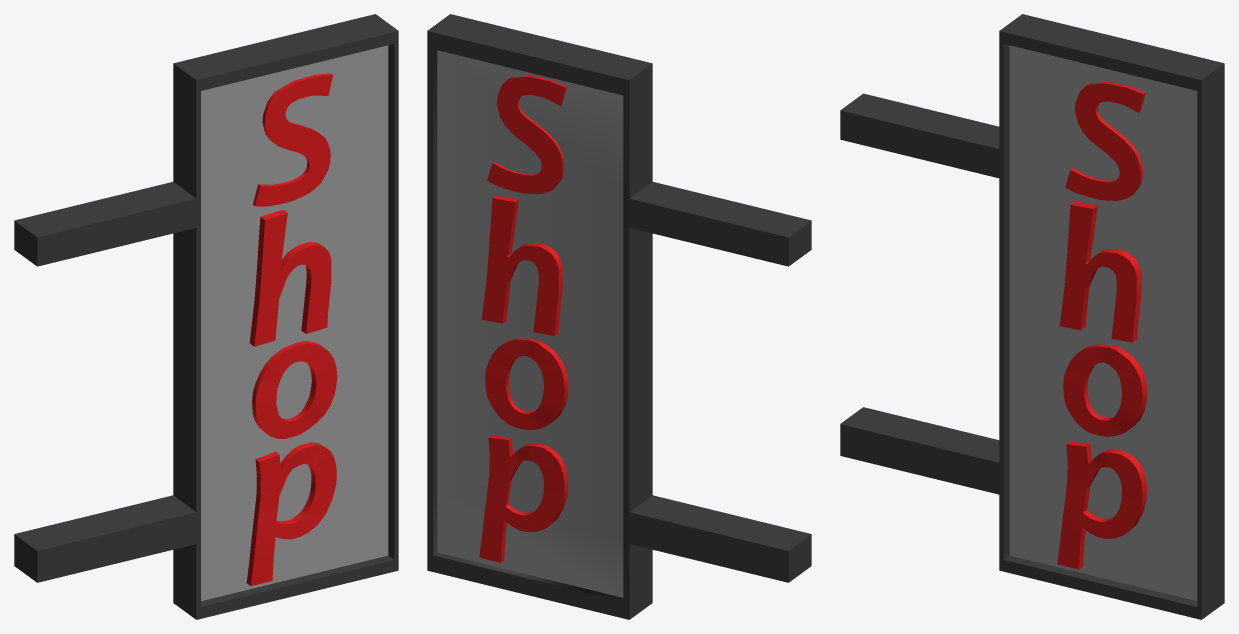
The model's file is Shop 1.fbx.
The picture shows the model from 3 angles, left to right: view 1: azimuth 30°, elevation 25°; view 2: azimuth 150°, elevation 25°; view 3: azimuth 330°, elevation 25°; orthographic projection.
Parts seen in each view (by area): view 1: Cube, Cube.001; view 2: Cube, Cube.001; view 3: Cube, Cube.001.
Part boxes in pixels (x1,y1,x2,y2): Cube: [14, 14, 398, 619]; Cube.001: [246, 73, 337, 585]; Cube: [427, 14, 811, 619]; Cube.001: [479, 75, 568, 562]; Cube: [840, 14, 1224, 619]; Cube.001: [1057, 81, 1147, 569].
Size of the model in its own units: 637 by 909 by 70.74.
